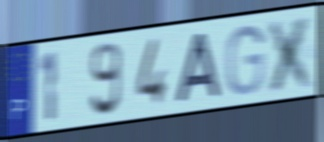1: (38, 48, 58, 123)
4: (135, 35, 169, 110)
9: (89, 40, 123, 118)
A: (172, 30, 223, 105)
G: (224, 23, 267, 98)
X: (265, 12, 318, 95)
